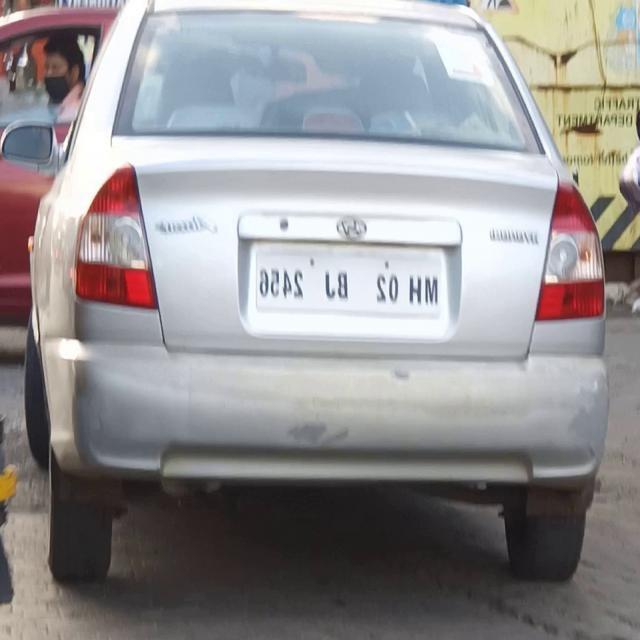license_plate: (246, 244, 452, 330)
